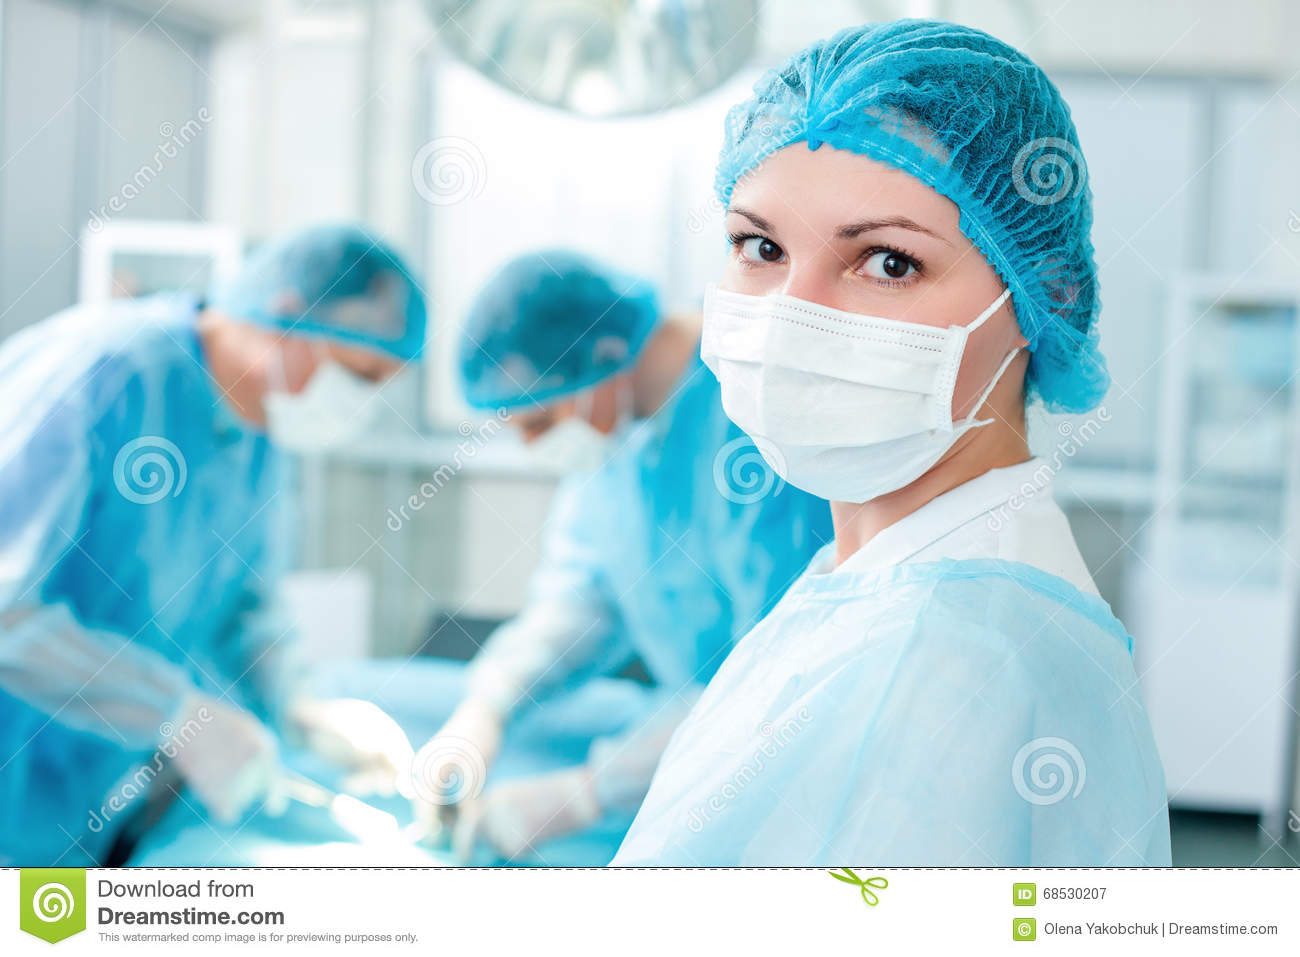mask: (698, 294, 966, 507)
